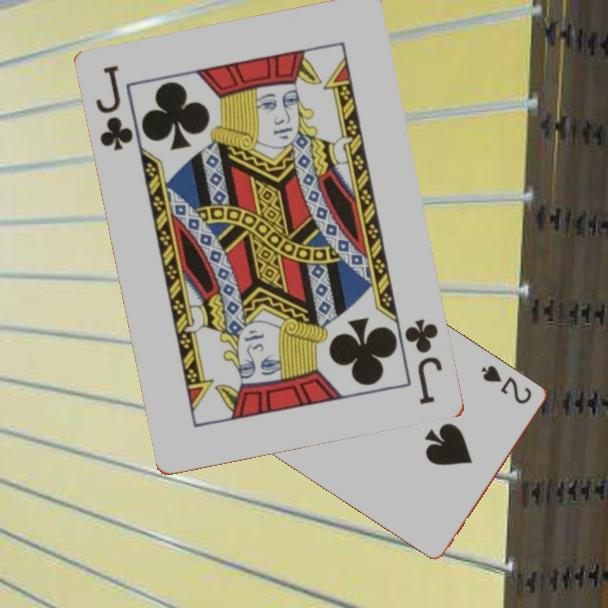c11: (92, 62, 137, 154), (402, 316, 446, 408)
s02: (478, 361, 535, 407)
